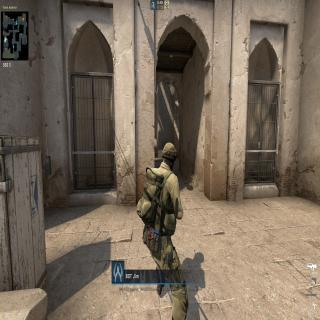CT-Head: (160, 139, 179, 172)
